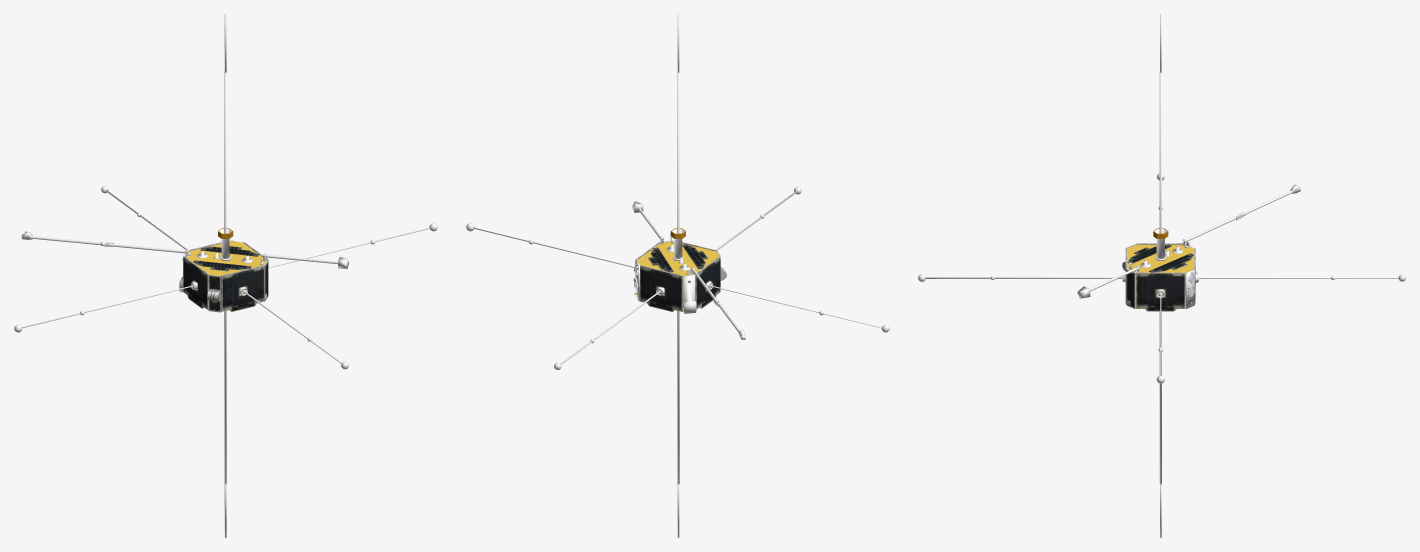
Rendered from themis.gltf.
The picture shows the model from 3 angles, left to right: view 1: azimuth 30°, elevation 25°; view 2: azimuth 150°, elevation 25°; view 3: azimuth 270°, elevation 25°; orthographic projection.
Visible parts, largest first — view 1: foil_silver, shiny_panel, BUS, tex_01; view 2: foil_silver, shiny_panel, BUS; view 3: foil_silver, shiny_panel, BUS, tex_01.
Part boxes in pixels (x1=…): foil_silver: x1=14, y1=14, x2=437, y2=537; shiny_panel: x1=183, y1=242, x2=268, y2=311; BUS: x1=182, y1=241, x2=266, y2=311; tex_01: x1=207, y1=228, x2=268, y2=312; foil_silver: x1=466, y1=14, x2=889, y2=537; shiny_panel: x1=635, y1=242, x2=720, y2=311; BUS: x1=634, y1=241, x2=719, y2=311; foil_silver: x1=918, y1=14, x2=1405, y2=537; shiny_panel: x1=1125, y1=243, x2=1195, y2=311; BUS: x1=1127, y1=244, x2=1194, y2=308; tex_01: x1=1122, y1=228, x2=1195, y2=308.
Bounding box in the file's own units: 6.09 × 7.21 × 6.09.
4 materials, 2 textured.
